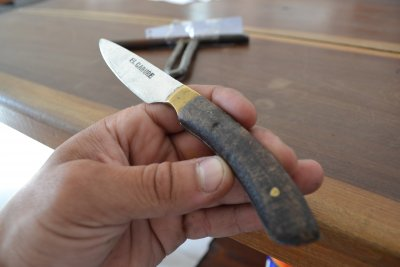knife: (94, 33, 324, 247)
